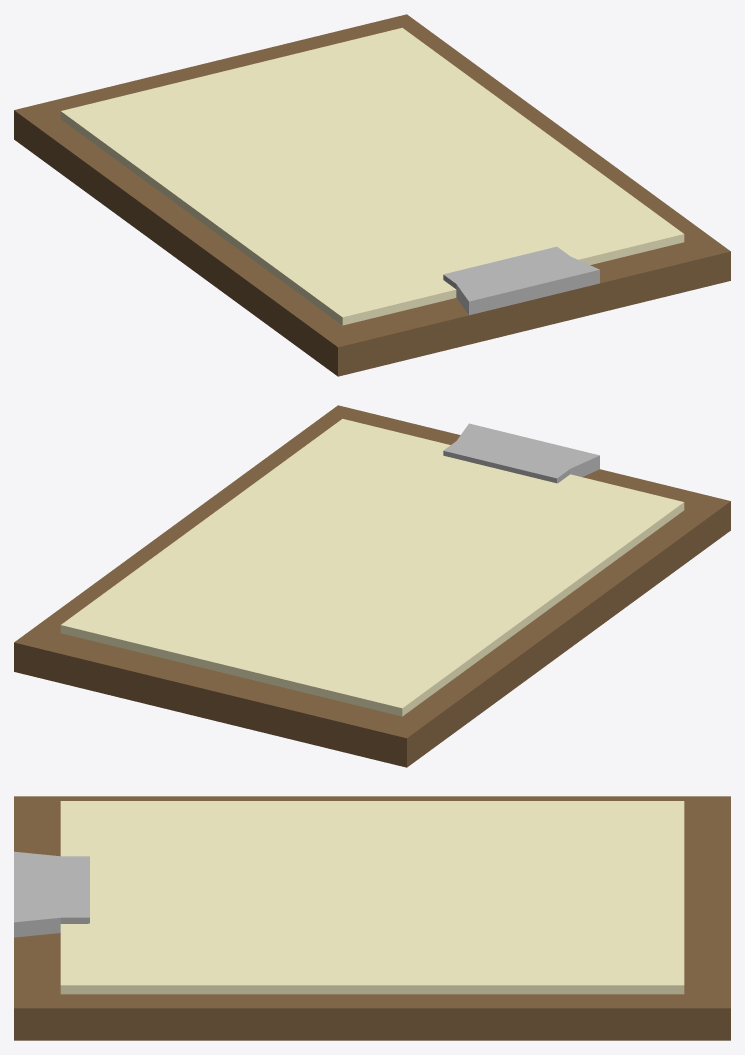
The model's file is Projectile_Clipboard.fbx.
3 views of the same model, one above another, from view 1: azimuth 30°, elevation 25°; view 2: azimuth 150°, elevation 25°; view 3: azimuth 270°, elevation 25° (orthographic). The views are drawn at different scales.
Parts seen in each view (by area): view 1: Cube; view 2: Cube; view 3: Cube.
Boxes of the visible parts, box(x1,y1,x2,y2) form: Cube: box(14, 14, 730, 376); Cube: box(14, 405, 730, 767); Cube: box(14, 796, 730, 1040).
Size of the model in its own units: 0.35 by 0.0367 by 0.5.
